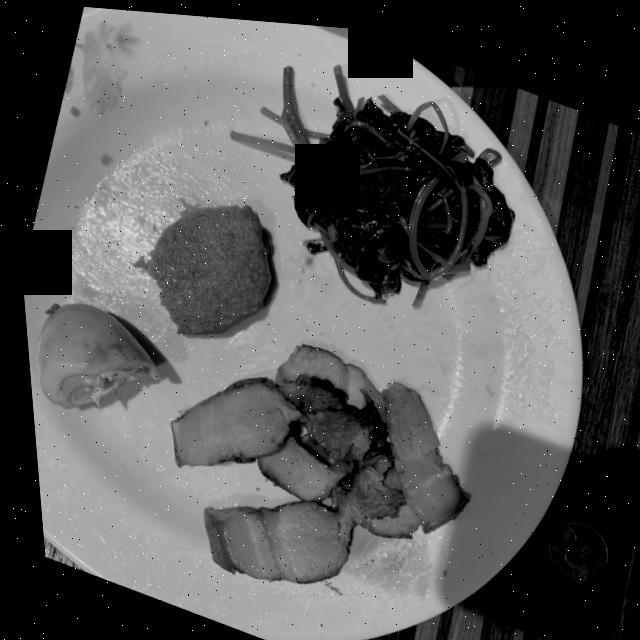Spam: (129, 200, 267, 331)
coin: (539, 510, 600, 571)
grilled pork: (164, 338, 454, 578)
soy egg: (31, 301, 154, 407)
sweet potato leaves: (228, 58, 511, 298)
